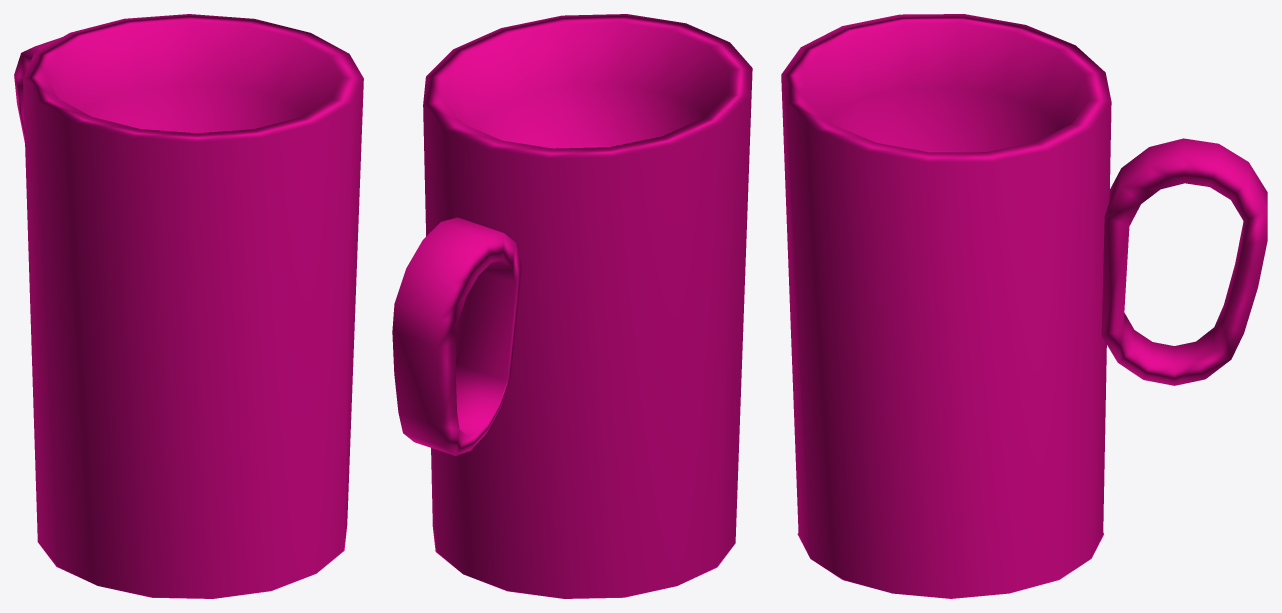
The model's file is Taza12.fbx.
3 renders of one model, left to right at view 1: azimuth 30°, elevation 25°; view 2: azimuth 150°, elevation 25°; view 3: azimuth 270°, elevation 25°, orthographic. The views are drawn at different scales.
Parts seen in each view (by area): view 1: Taza12; view 2: Taza12; view 3: Taza12.
Part boxes in pixels (left/top/right/bottom): Taza12: left=14, top=14, right=363, bottom=598; Taza12: left=392, top=14, right=752, bottom=598; Taza12: left=781, top=14, right=1267, bottom=598.
Size of the model in its own units: 13.33 by 20.16 by 19.64.
